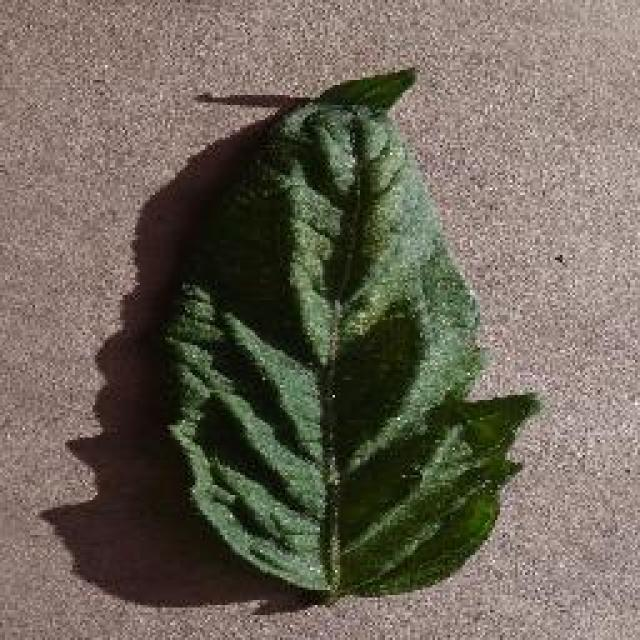Tomato mosaic virus leaf: (131, 64, 551, 604)
